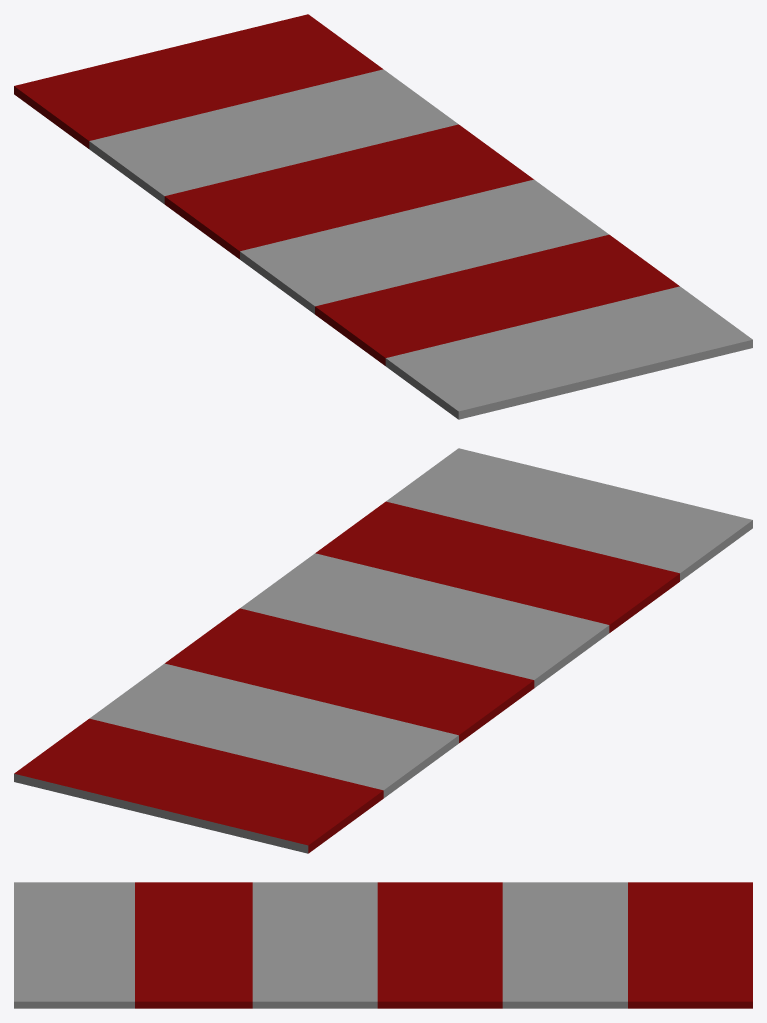
File: BR_Curb.FBX
3 views of the same model, one above another, from view 1: azimuth 30°, elevation 25°; view 2: azimuth 150°, elevation 25°; view 3: azimuth 270°, elevation 25° (orthographic). The views are drawn at different scales.
Parts seen in each view (by area): view 1: BR_Curb; view 2: BR_Curb; view 3: BR_Curb.
Boxes of the visible parts, x1=… form: BR_Curb: x1=14, y1=14, x2=752, y2=419; BR_Curb: x1=14, y1=448, x2=752, y2=853; BR_Curb: x1=14, y1=882, x2=752, y2=1008.
Bounding box in the file's own units: 21.78 × 56.98 × 0.5873.
